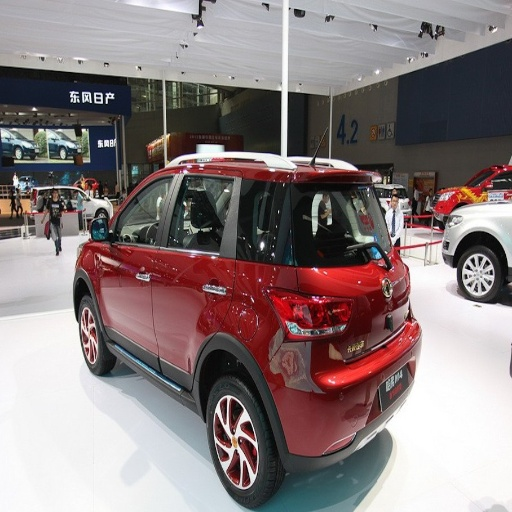back_bumper: (275, 336, 418, 467)
back_glass: (256, 184, 377, 264)
back_left_door: (153, 171, 235, 376)
trunk: (299, 264, 388, 389)
